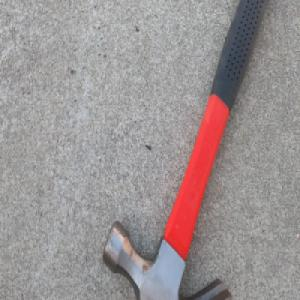Hammer: (101, 0, 270, 300)
